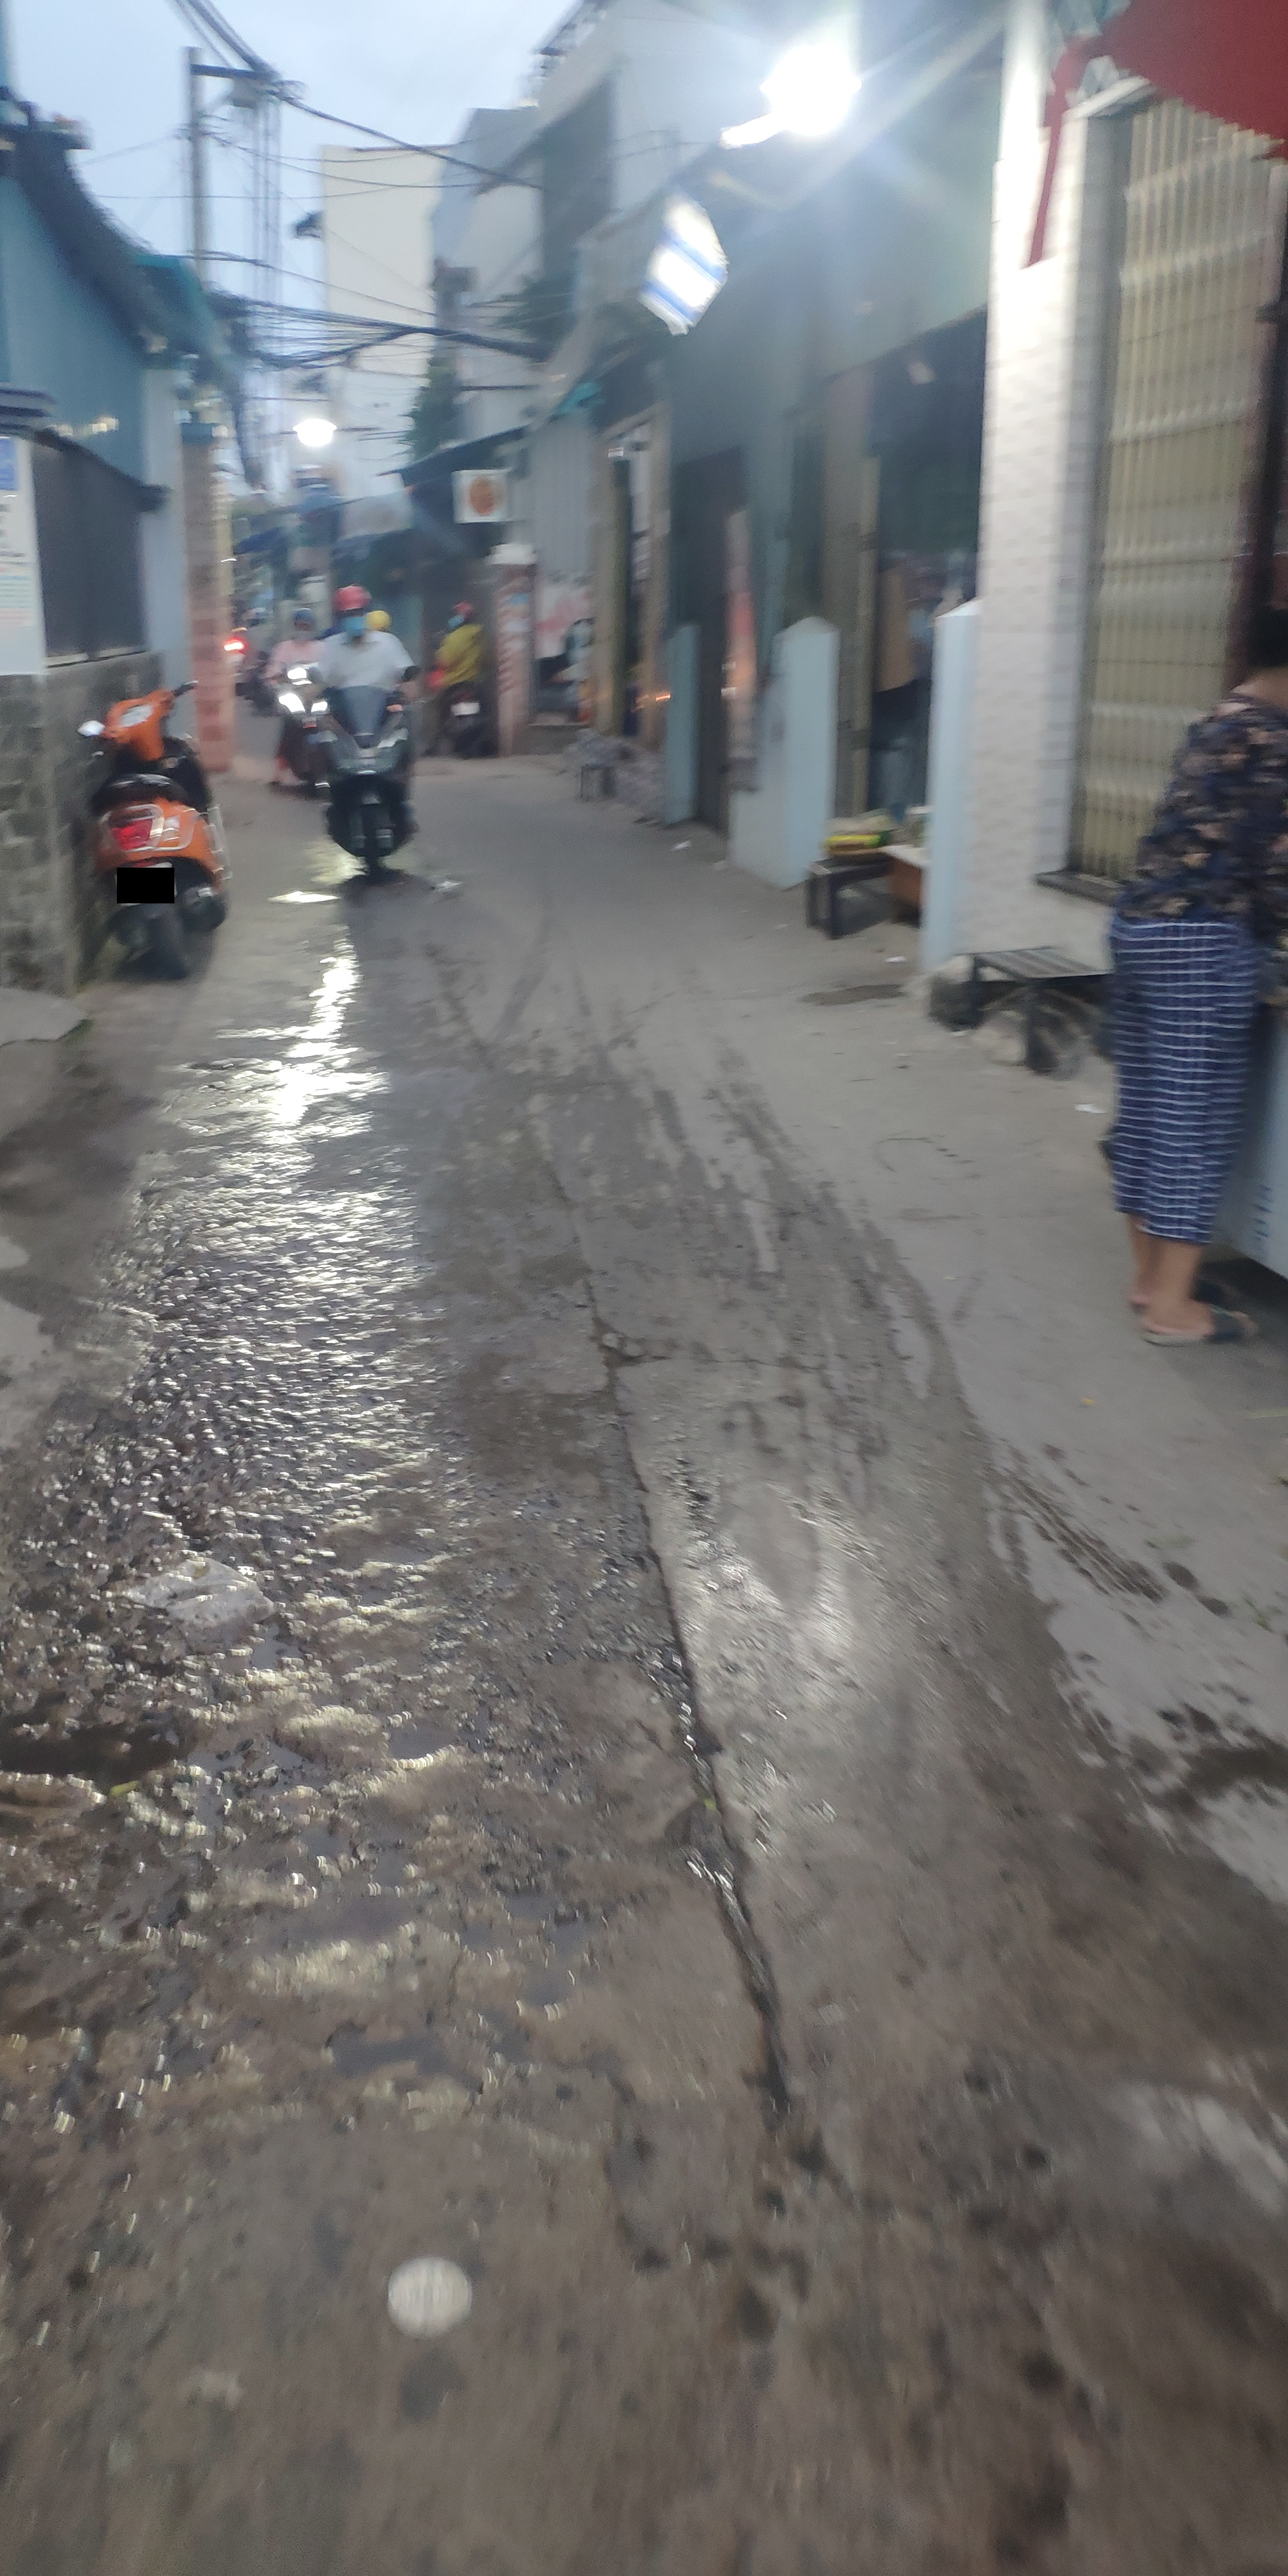hole: (0, 1695, 222, 1786)
